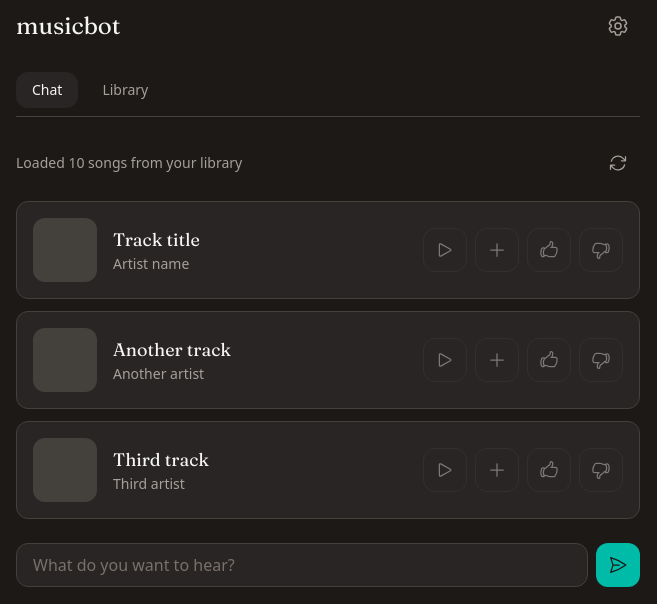
Test: Chat › re-syncs the library and updates the count when the sync button is clicked
Expected: the text "Loaded 10 songs from your library" is shown, left=16, top=153, right=242, bottom=173
Click the button named "Sync library": x=618, y=163 left=596, top=141, right=640, bottom=185
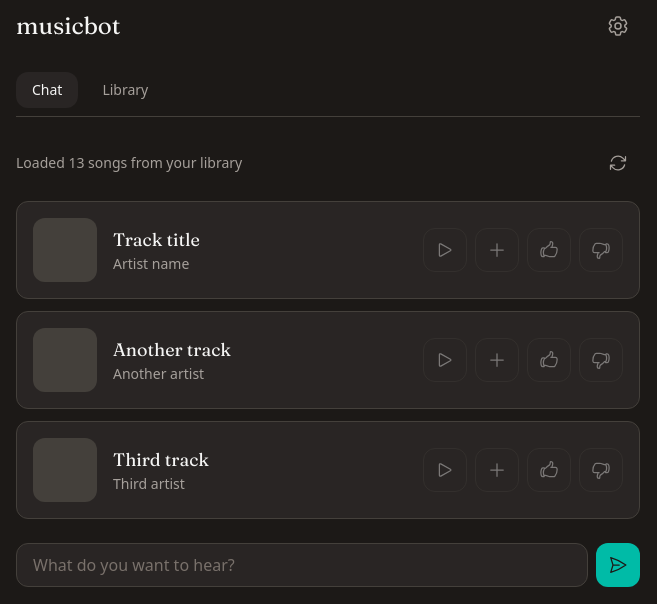
Expected: the text "Loaded 13 songs from your library" is shown, left=16, top=153, right=242, bottom=173
